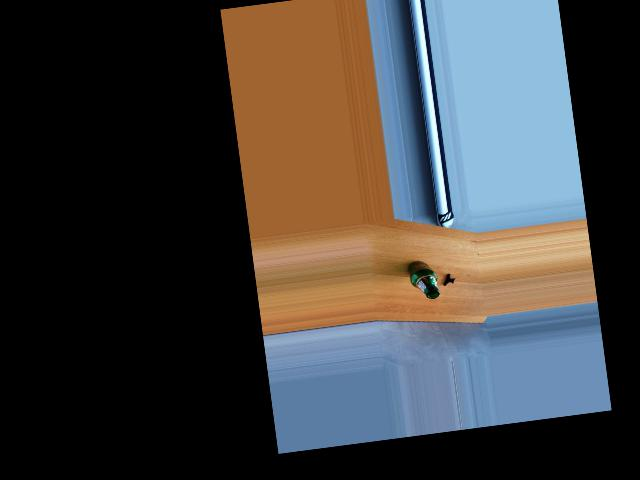beer: (406, 258, 440, 301)
